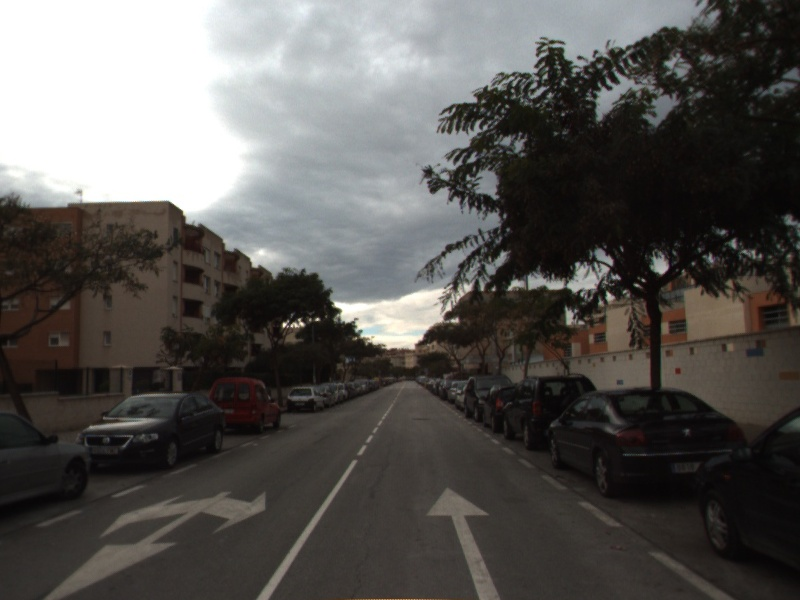STRAIGHT: (424, 484, 502, 600)
